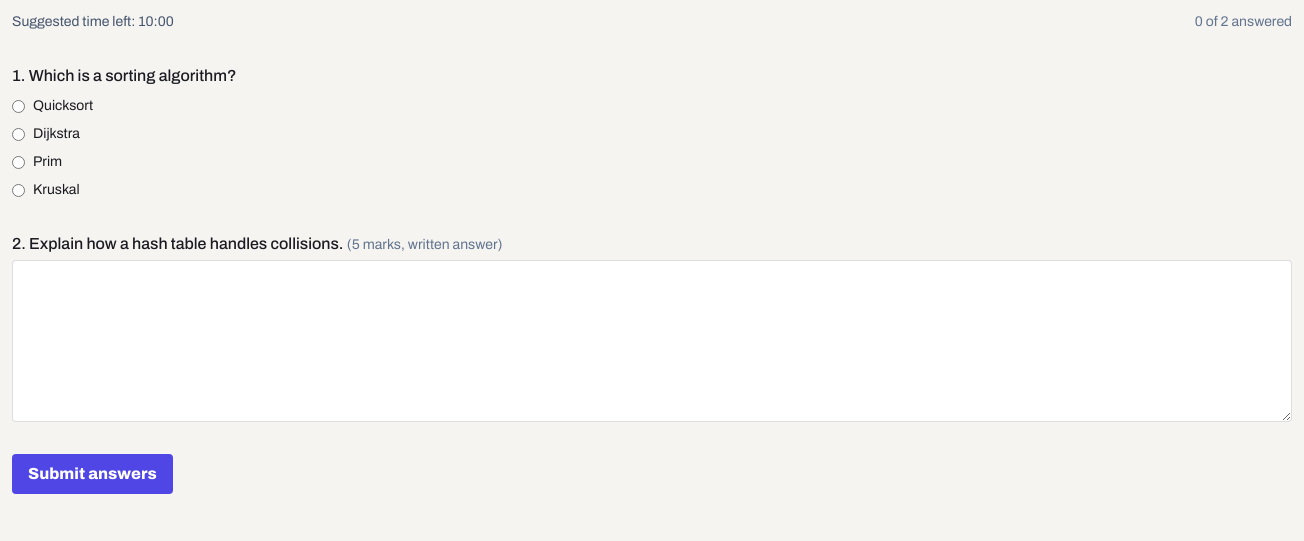
Test: AssessmentTaker › submits mcq choices as indexes and written answers as text
Click the radio button labelled "Quicksort" at (18, 106), box x1=12 y1=100 x2=25 y2=113
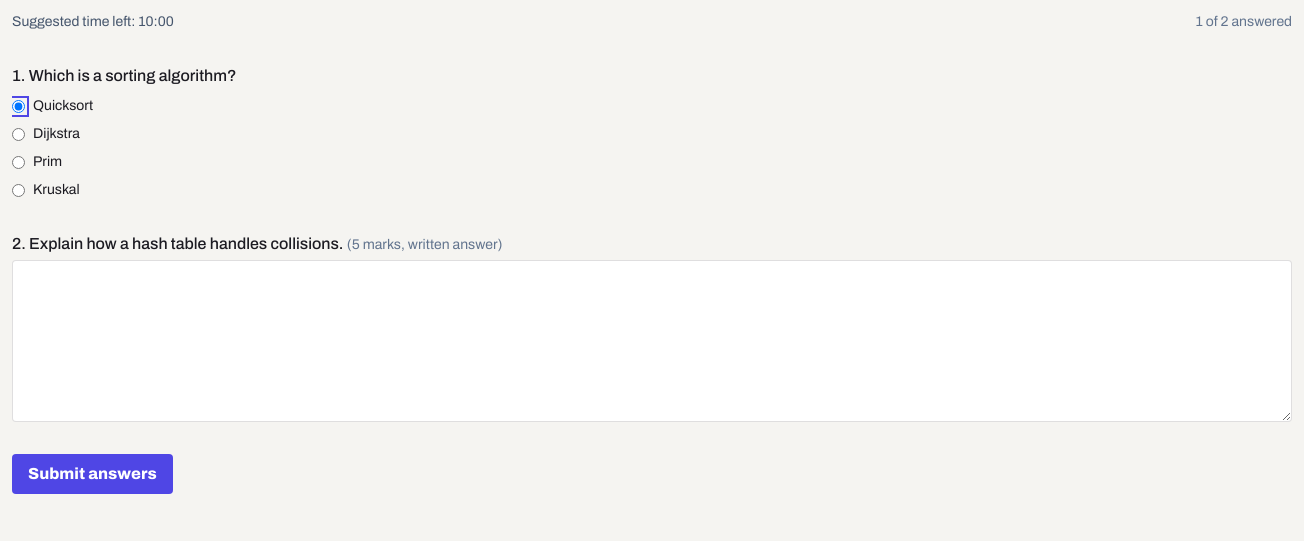
Type "Chaining." into the text box at (652, 341), box x1=12 y1=260 x2=1292 y2=422
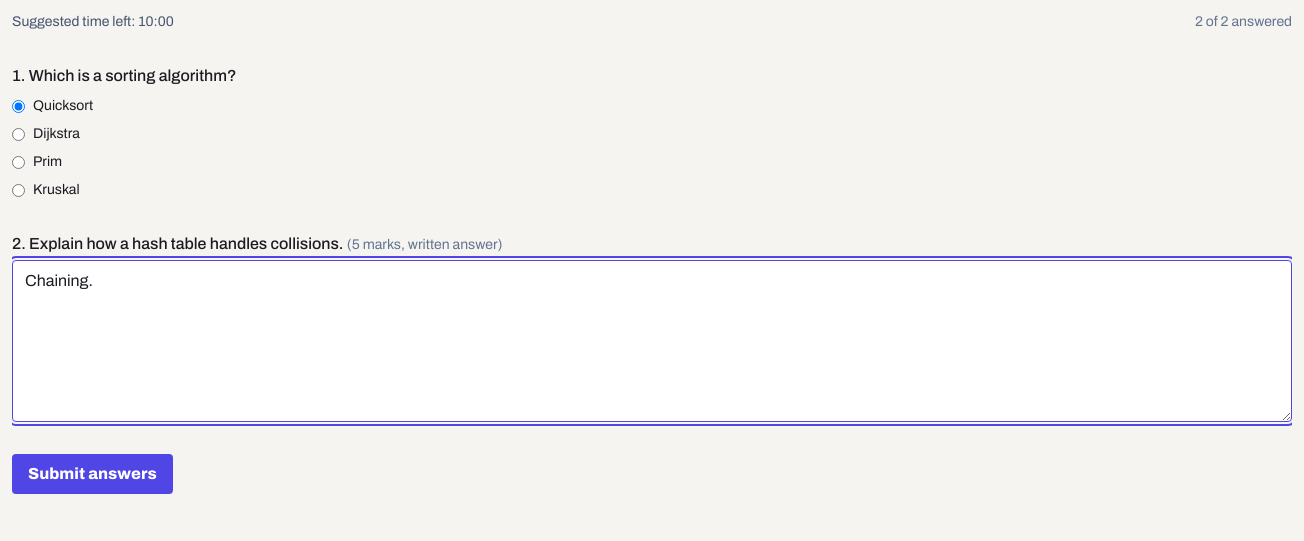
Now the text "2 of 2 answered" is shown, box x1=1195 y1=12 x2=1292 y2=32
Click the button "Submit answers" at (92, 474), box x1=12 y1=454 x2=173 y2=494
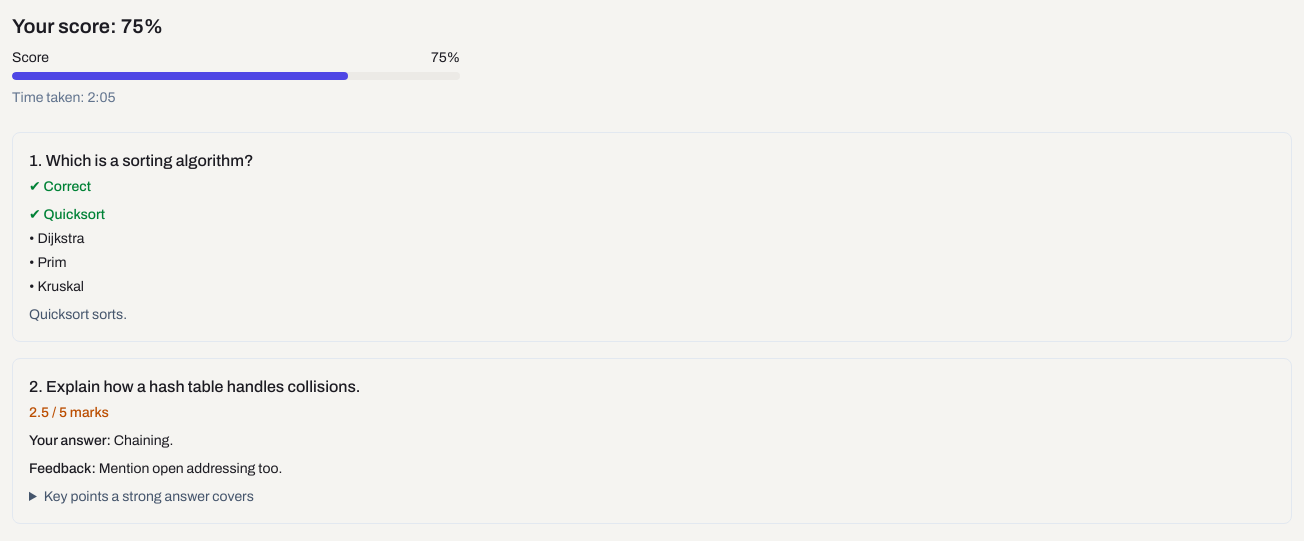
Now the heading "Your score: 75%" is shown, box x1=12 y1=15 x2=163 y2=37
Now the text "Time taken: 2:05" is shown, box x1=12 y1=90 x2=116 y2=105
Now the text "Quicksort sorts." is shown, box x1=29 y1=307 x2=127 y2=322
